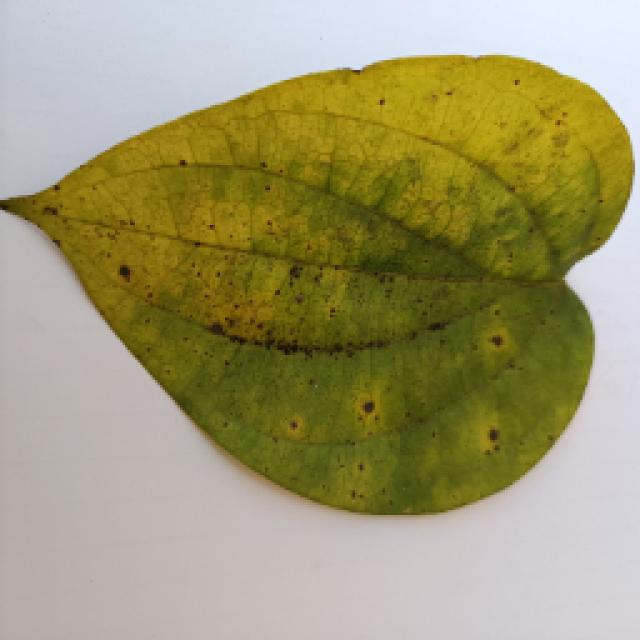slow-decline: (0, 68, 615, 530)
